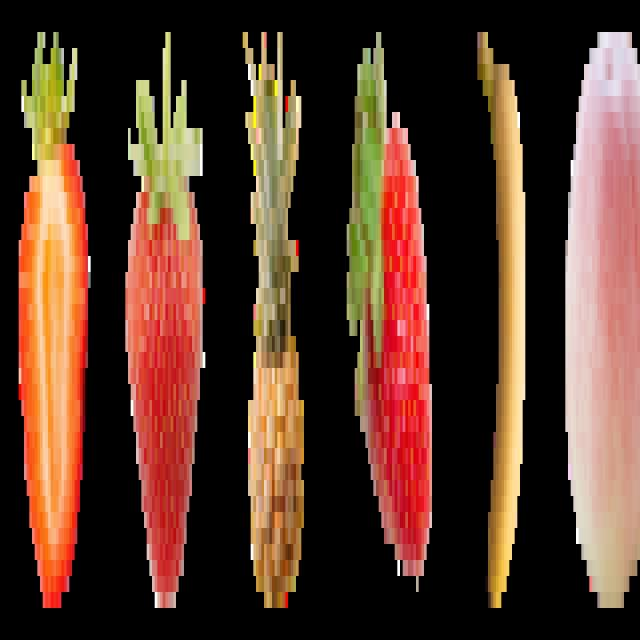bananas: (473, 9, 528, 618)
pineapples: (242, 22, 308, 618)
strawberry: (343, 19, 433, 591), (123, 22, 204, 624), (16, 16, 91, 613)
